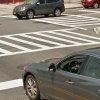Crosswalk: (2, 26, 93, 56)
